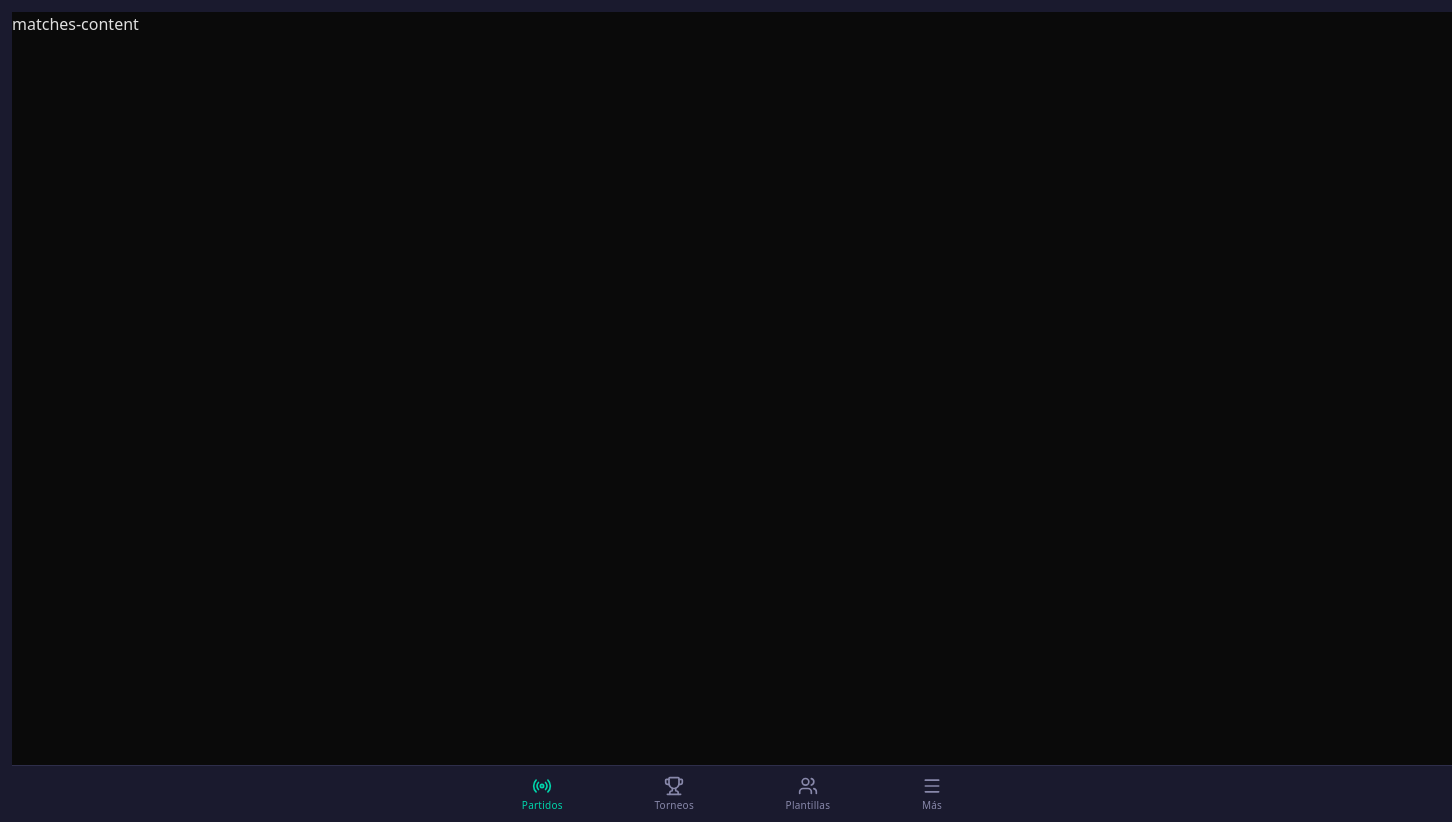
ViewerShell › navigates between tabs on click
The image size is (1452, 822).
Expected: the text "matches-content" is shown, [12,13,139,35]
Click the link "Torneos". click: (674, 794)
box: [654,776,694,812]
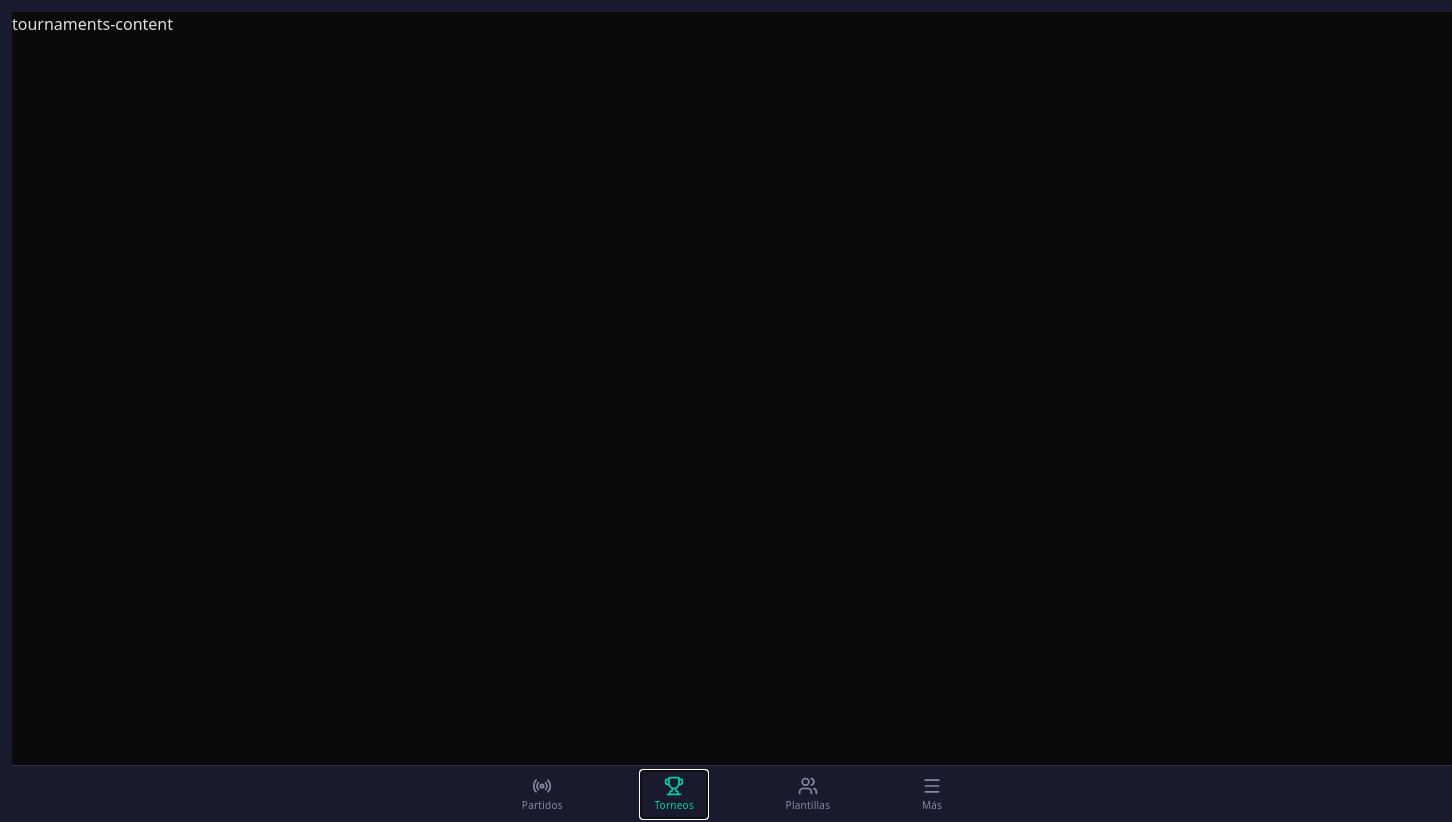
Expected: the text "tournaments-content" is shown, [12,13,173,35]
Expected: the text "matches-content" is gone
Click the link "Plantillas". click: (808, 794)
box: [786,776,830,812]
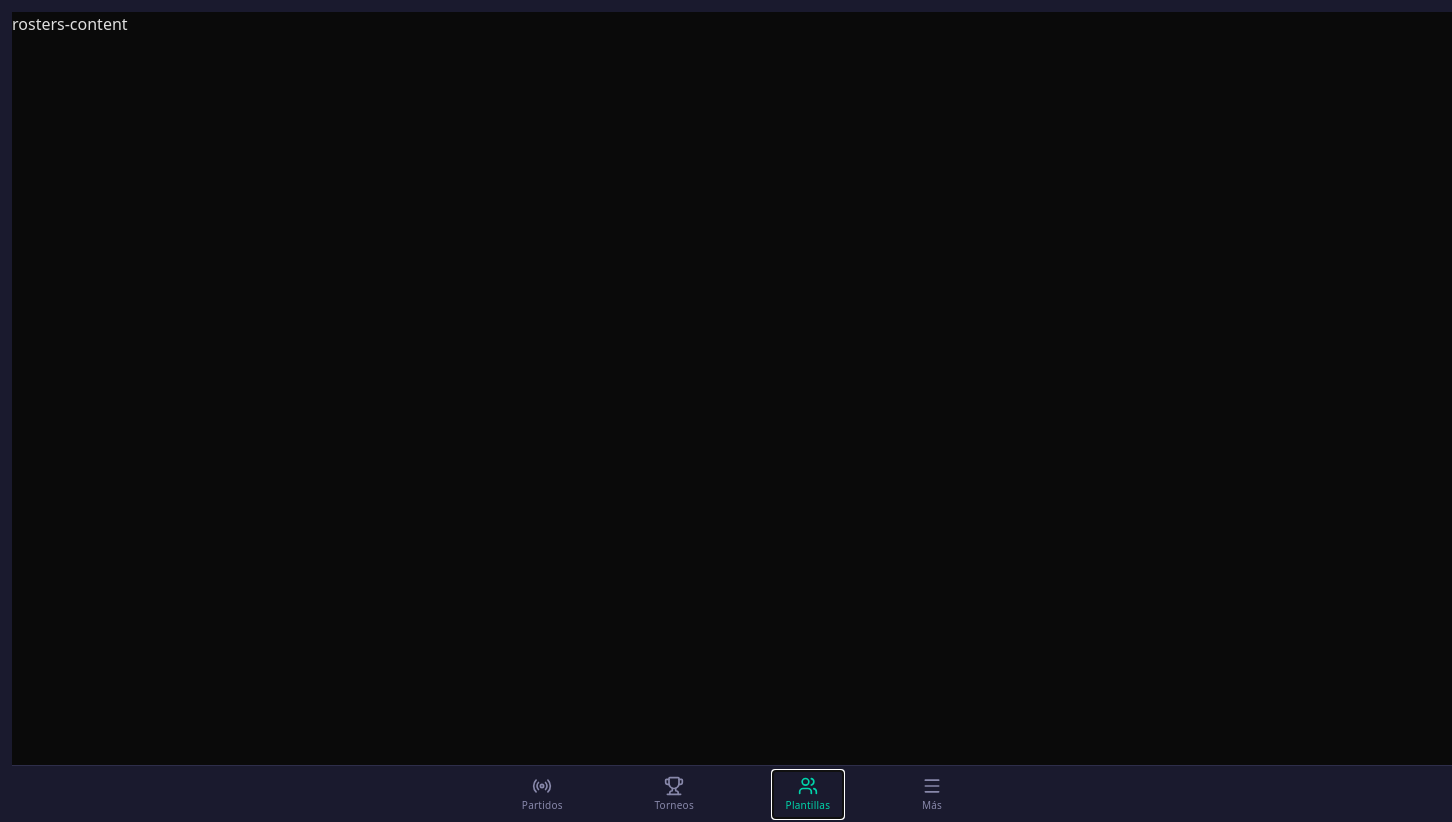
Expected: the text "rosters-content" is shown, [12,13,128,35]
Click the link "Más". click: (932, 794)
box: [922,776,942,812]
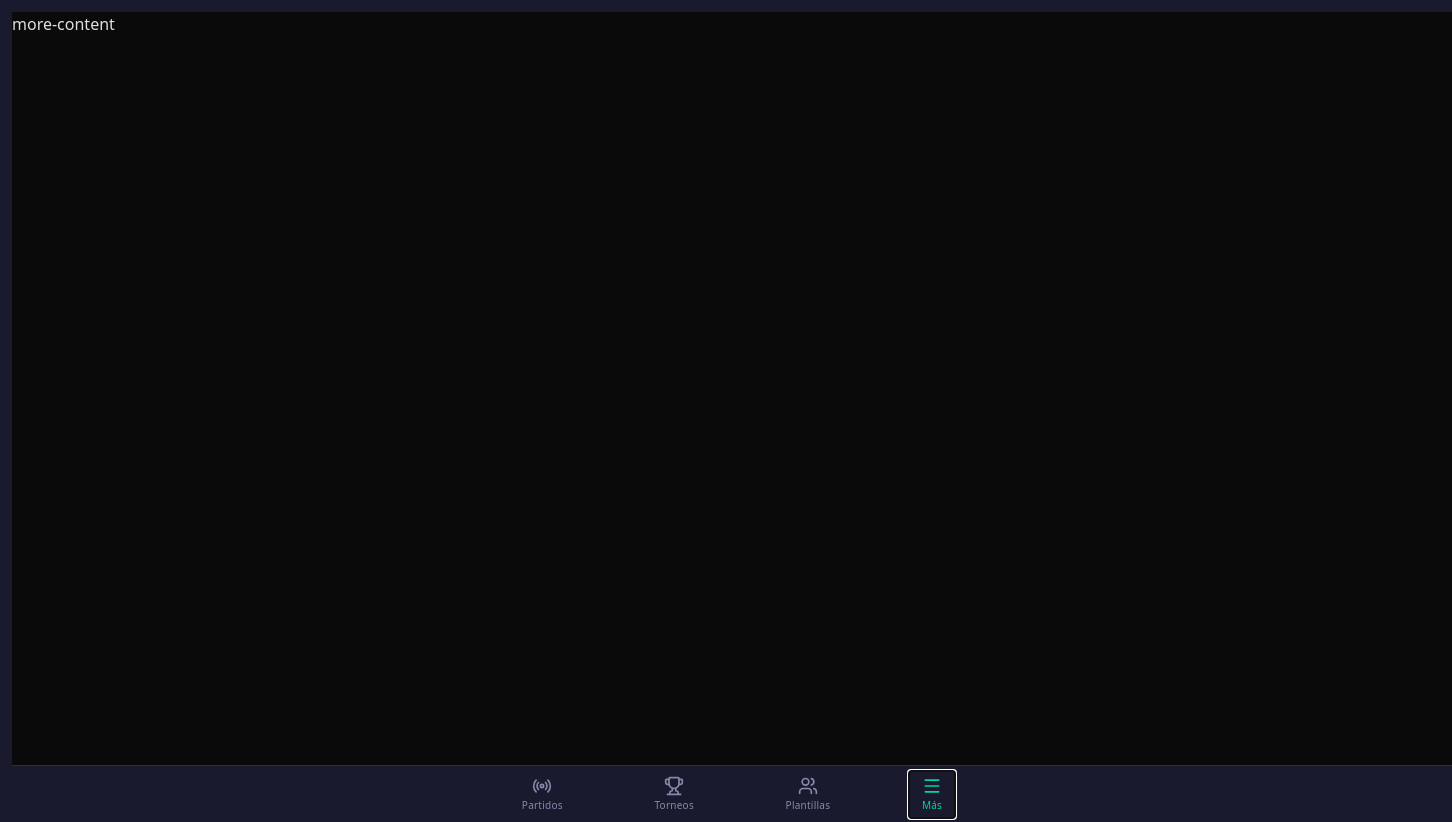
Expected: the text "more-content" is shown, [12,13,115,35]
